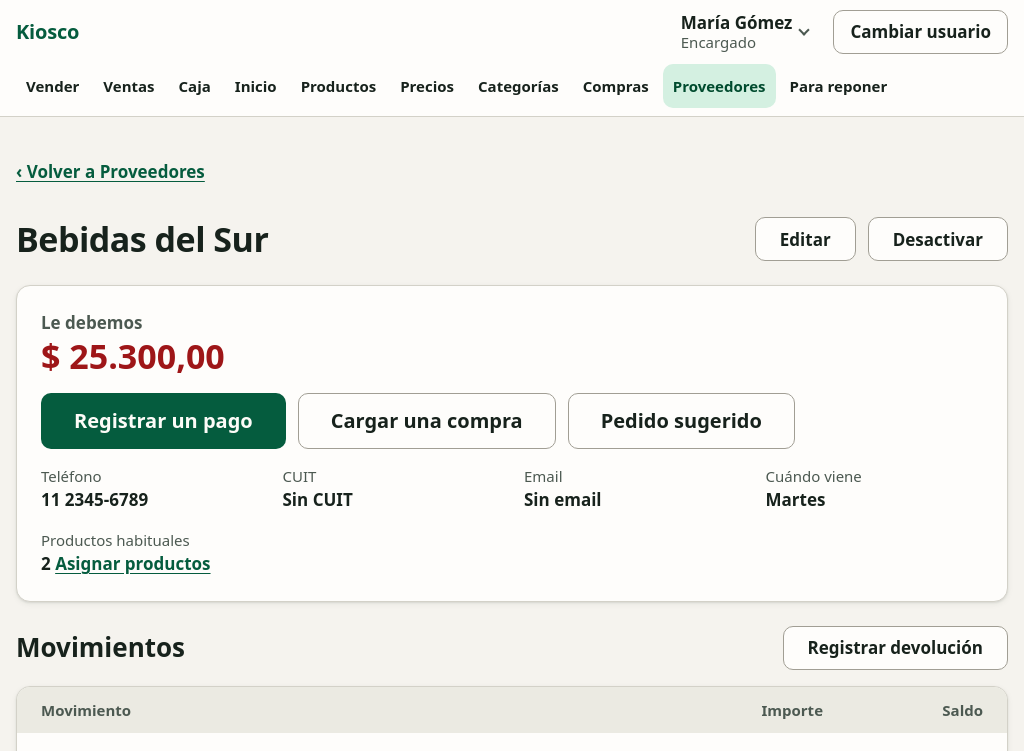
Test: Cuenta corriente › tras "Revisar el monto" del pago no queda ningún banner de error
The width and height of the screenshot is (1024, 751).
Click the button "Registrar un pago": (163, 421) [41,393,286,449]
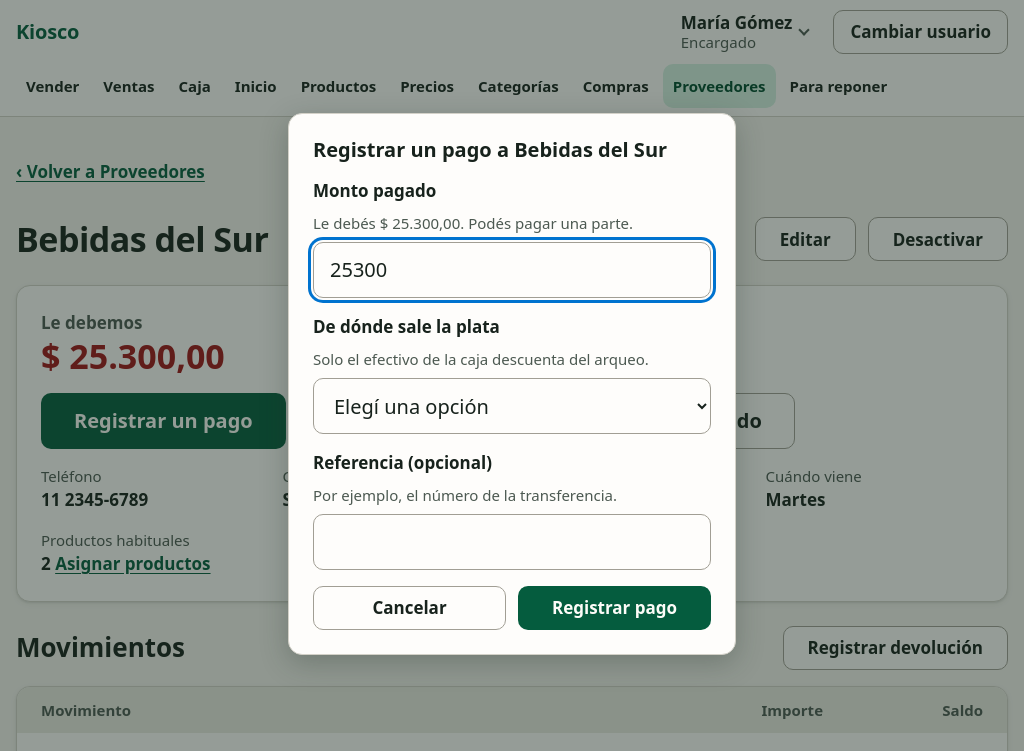
Replace the text in the field labelled "Monto pagado" with "30000": (512, 270) [313,242,711,298]
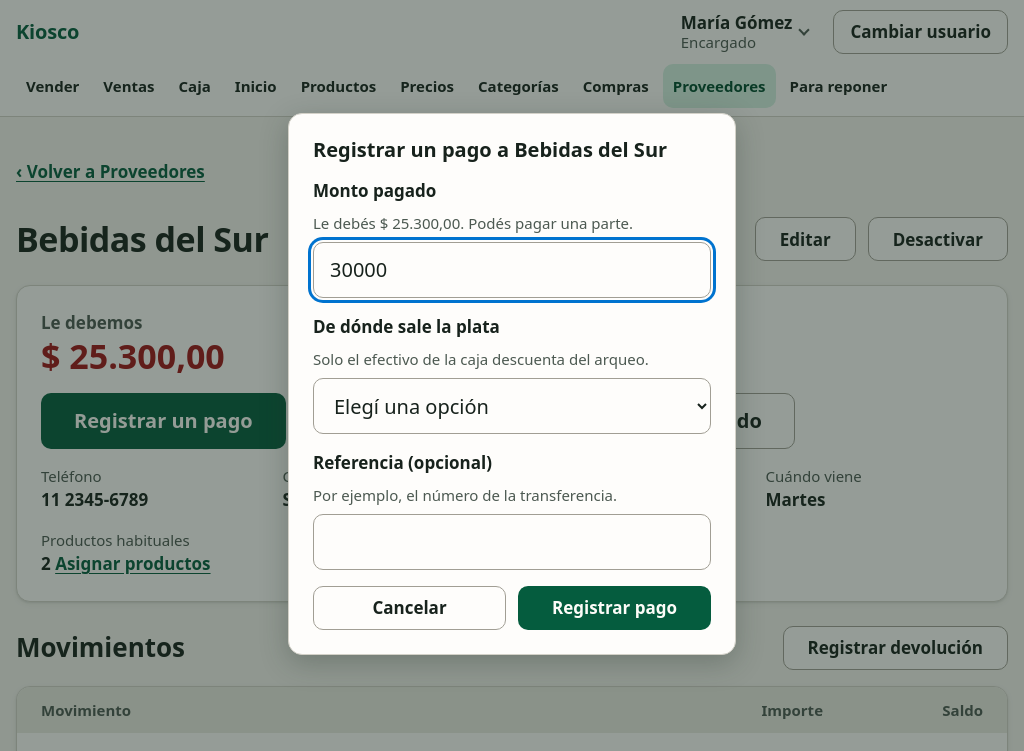
Select "Transferencia" in the dropdown labelled "De dónde sale la plata": (512, 406) [313,378,711,434]
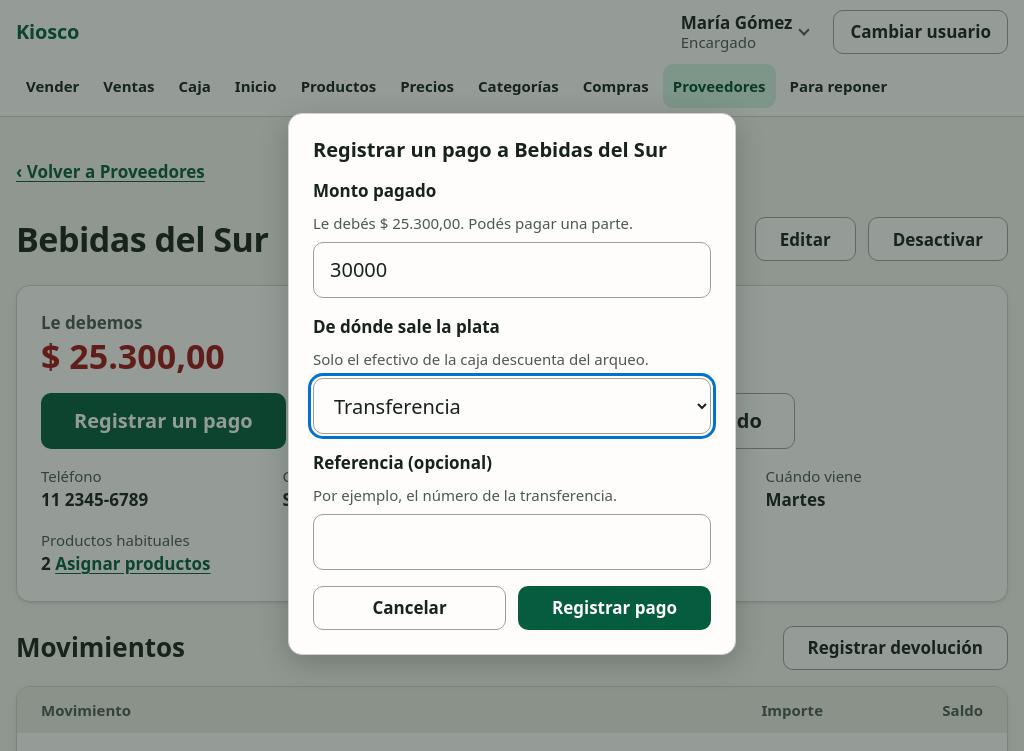
Click the button "Registrar pago": (614, 608) [518,586,711,630]
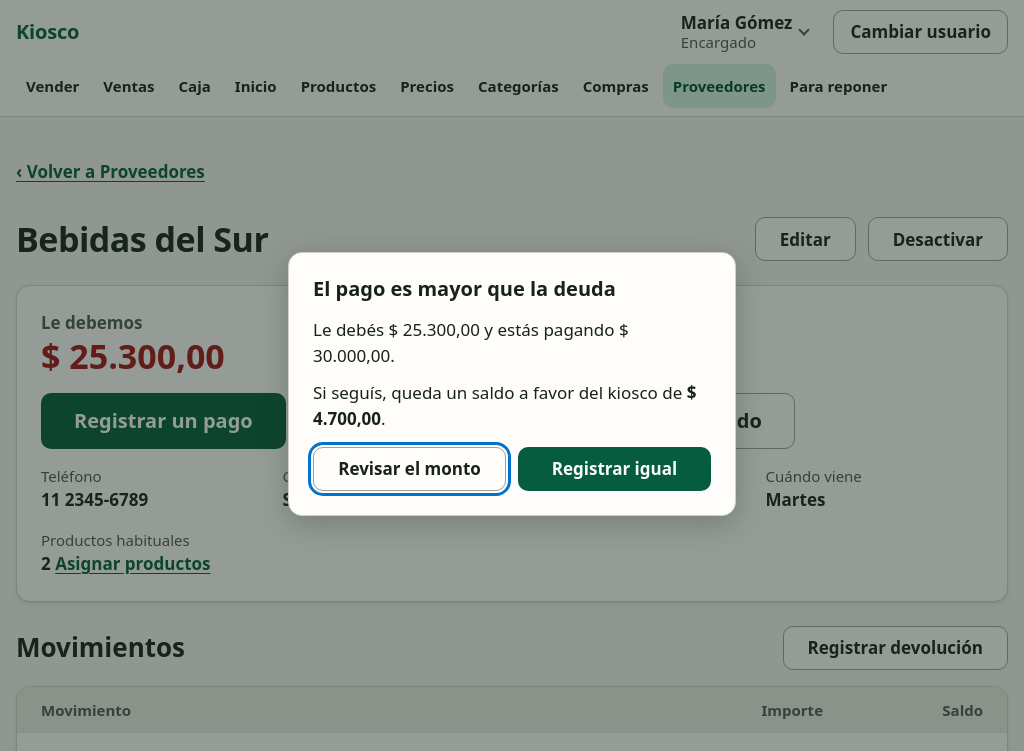
Click the button "Revisar el monto": (410, 469) [313,447,506,491]
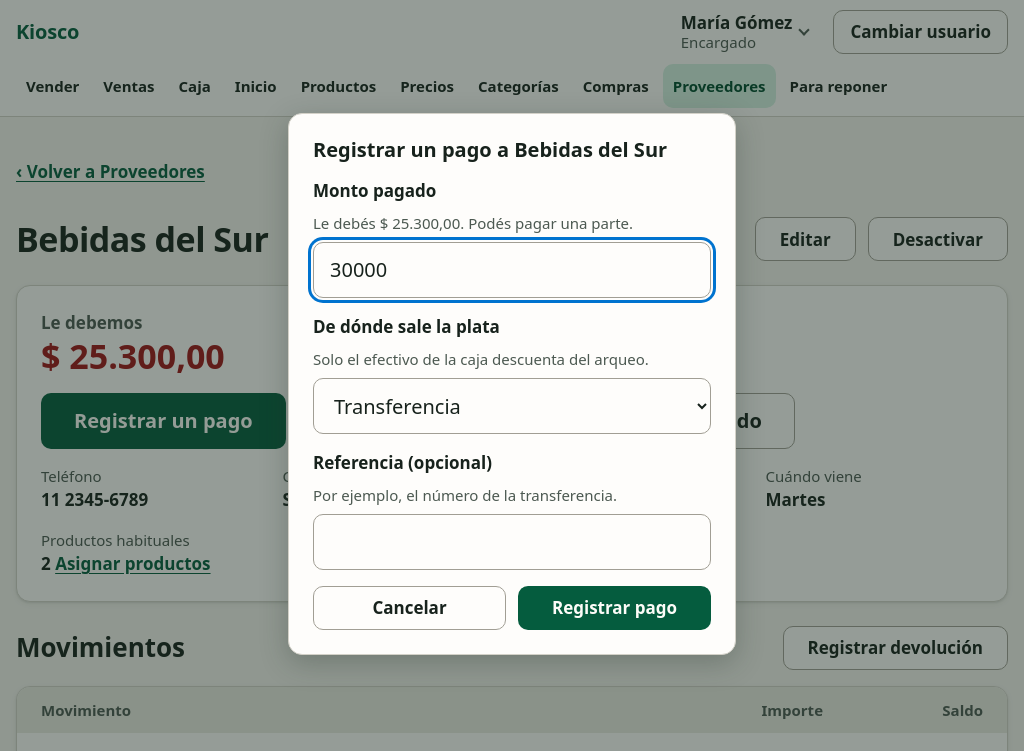
Check: the field labelled "Monto pagado" is shown, box [313,242,711,298]
Click the button "Registrar pago": (614, 608) [518,586,711,630]
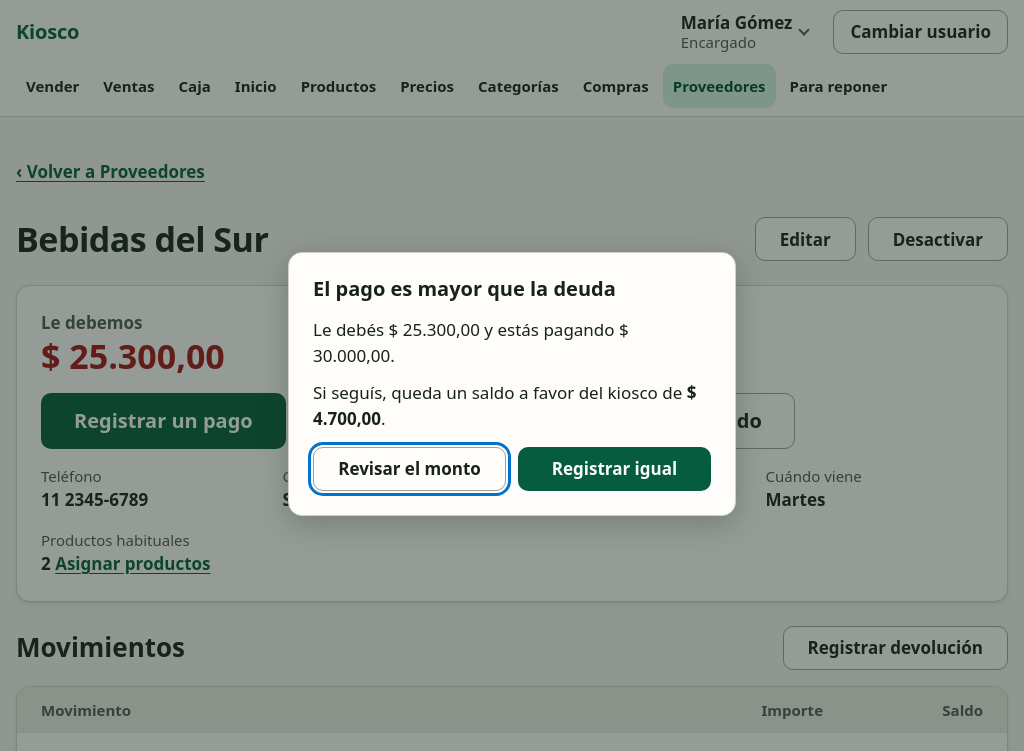
Check: the heading "El pago es mayor que la deuda" is shown, box [313,275,616,302]
